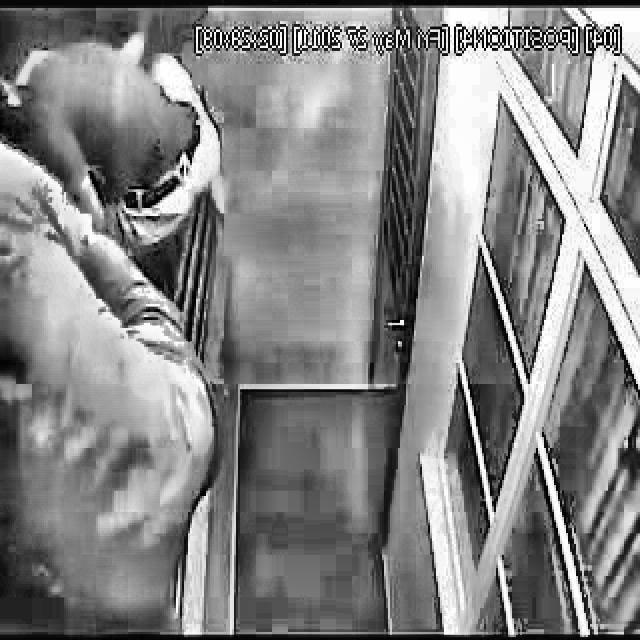burglary: (0, 25, 232, 632)
